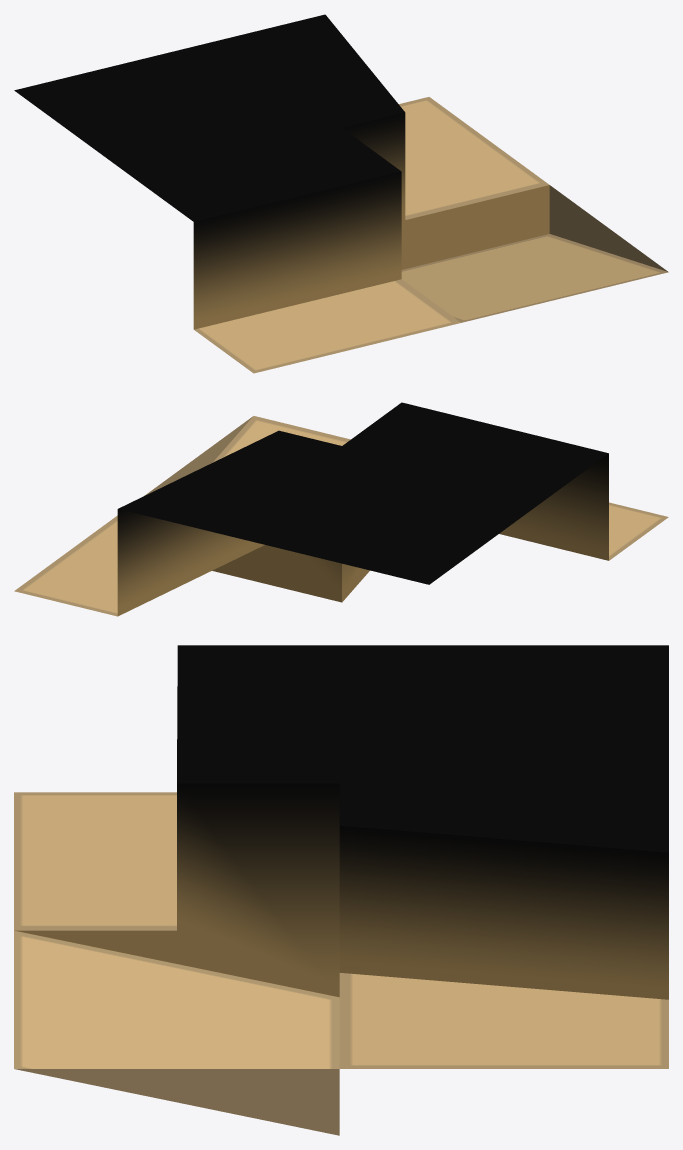
The model's file is ST_Env_Ceiling_Hole_02.fbx.
3 views of the same model, one above another, from view 1: azimuth 30°, elevation 25°; view 2: azimuth 150°, elevation 25°; view 3: azimuth 270°, elevation 25° (orthographic). The views are drawn at different scales.
Parts seen in each view (by area): view 1: ST_Env_Ceiling_Hole_02; view 2: ST_Env_Ceiling_Hole_02; view 3: ST_Env_Ceiling_Hole_02.
Boxes of the visible parts, x1,y1,x2,y2 form: ST_Env_Ceiling_Hole_02: [14, 14, 668, 373]; ST_Env_Ceiling_Hole_02: [14, 402, 668, 616]; ST_Env_Ceiling_Hole_02: [14, 645, 668, 1135].
Size of the model in its own units: 5 by 1.8 by 5.
